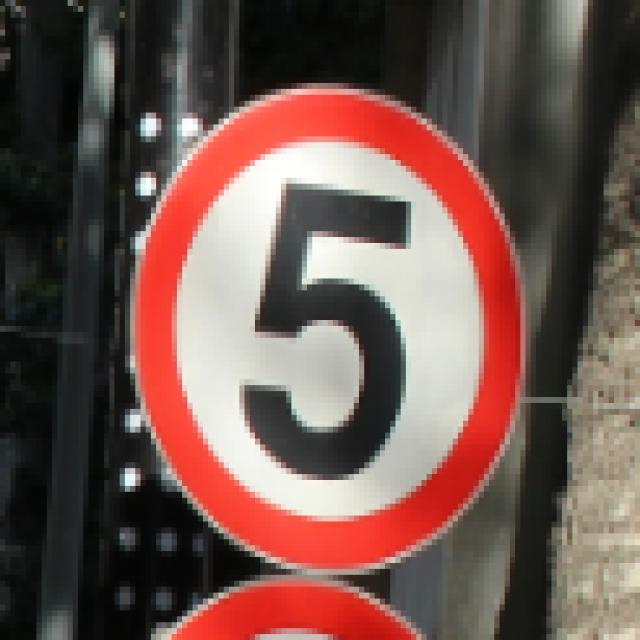Speed: (126, 61, 554, 579)
